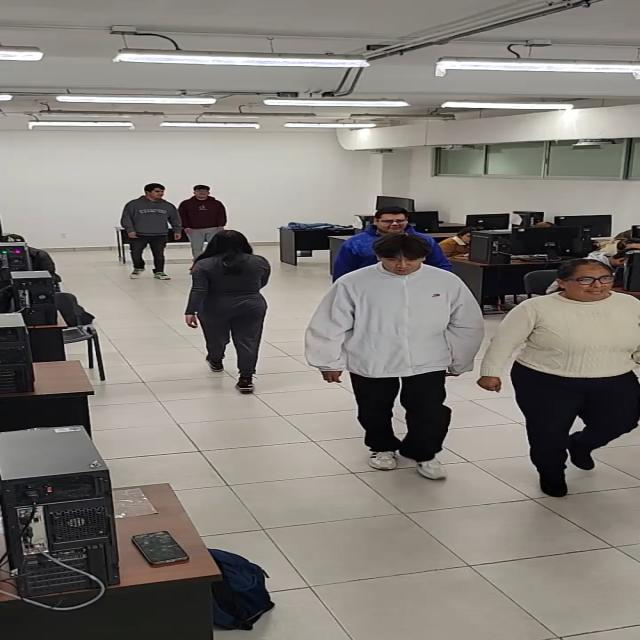Persona: (309, 233, 489, 484), (495, 256, 640, 498), (174, 229, 284, 396), (111, 179, 176, 283), (180, 180, 228, 250)
